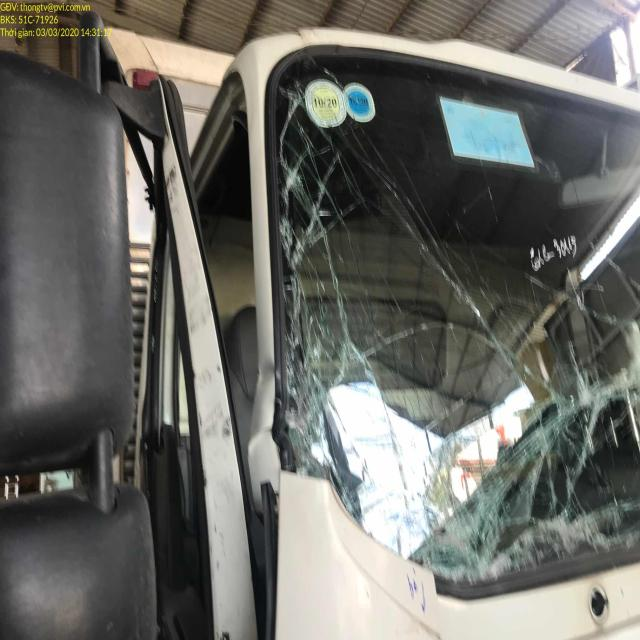Fissure: (330, 141, 531, 382), (405, 381, 640, 560), (277, 71, 346, 472), (341, 355, 411, 542), (542, 281, 640, 398), (355, 334, 477, 362), (428, 556, 521, 584)
